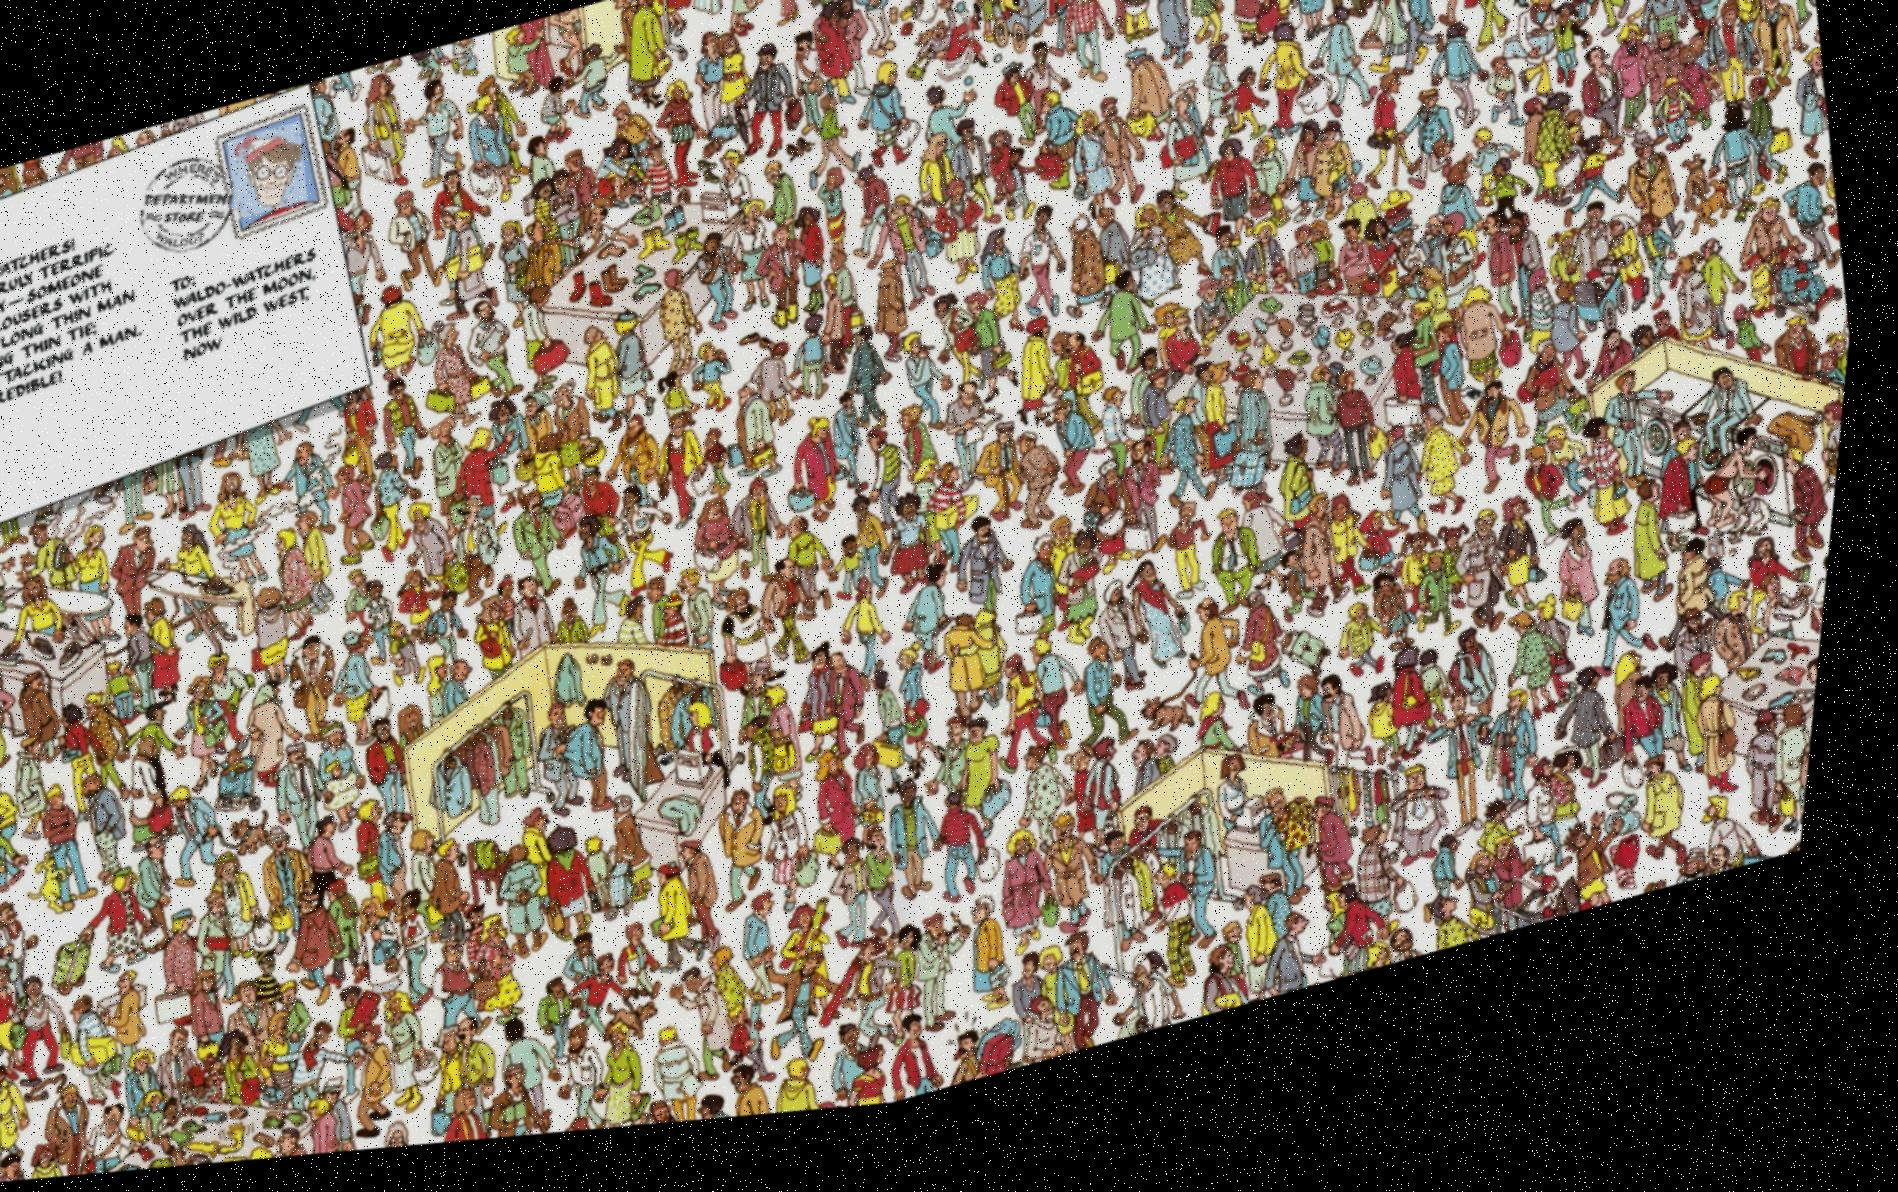waldo: (225, 126, 319, 227), (641, 152, 673, 184)
